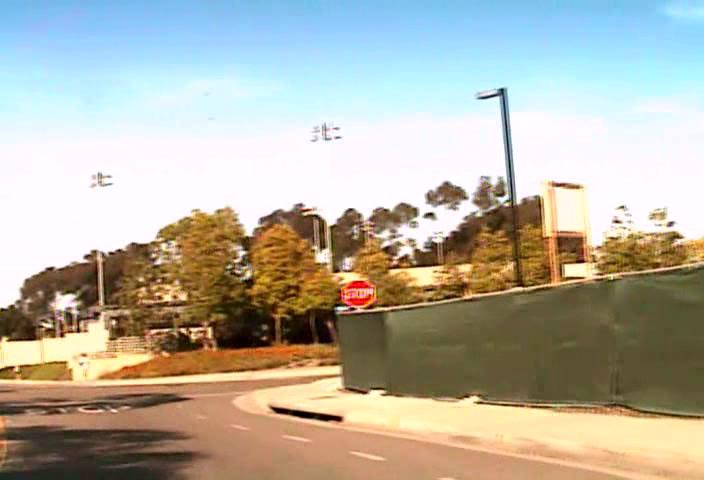stop: (340, 279, 375, 308)
